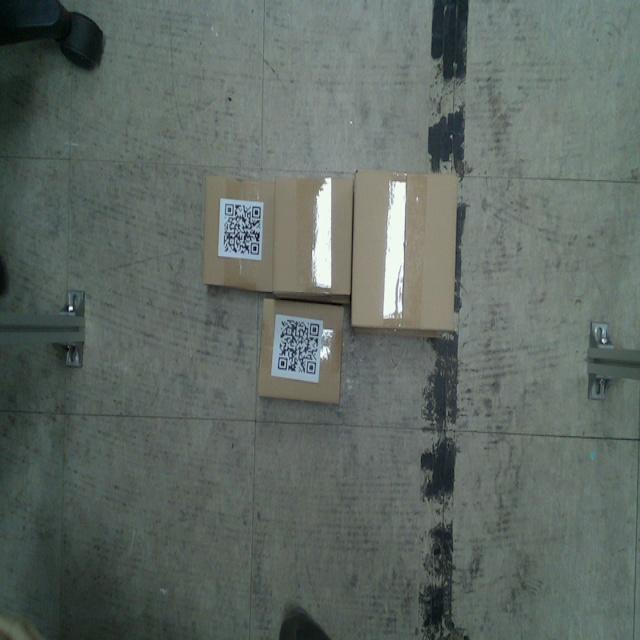box: (350, 166, 460, 339), (198, 169, 280, 297), (252, 297, 348, 405), (272, 175, 353, 297)
